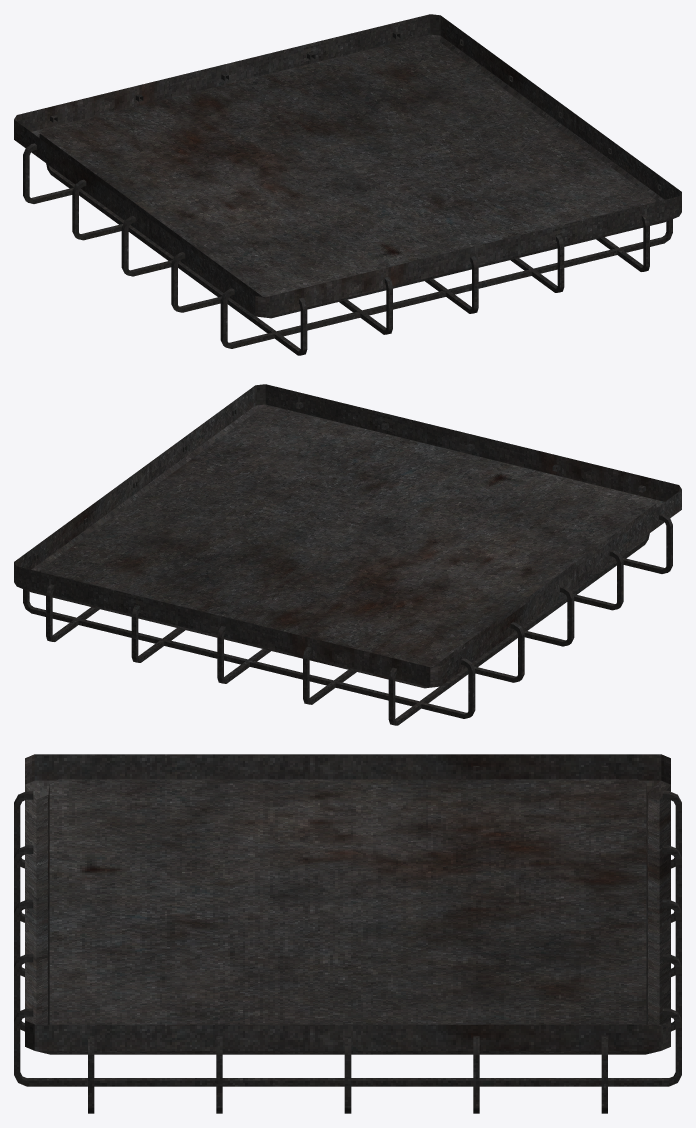
File: ceiling_lamp_1_off.glb
The picture shows the model from 3 angles, top to bottom: view 1: azimuth 30°, elevation 25°; view 2: azimuth 150°, elevation 25°; view 3: azimuth 270°, elevation 25°; orthographic projection. The views are drawn at different scales.
Visible parts, largest first — view 1: ceiling_lamp_1_off; view 2: ceiling_lamp_1_off; view 3: ceiling_lamp_1_off.
Part boxes in pixels (left/top/right/bottom): ceiling_lamp_1_off: left=14, top=14, right=681, bottom=355; ceiling_lamp_1_off: left=14, top=384, right=681, bottom=725; ceiling_lamp_1_off: left=14, top=754, right=681, bottom=1113.
Size of the model in its own units: 1.05 by 0.15 by 1.04.
3 materials, 3 textured.
